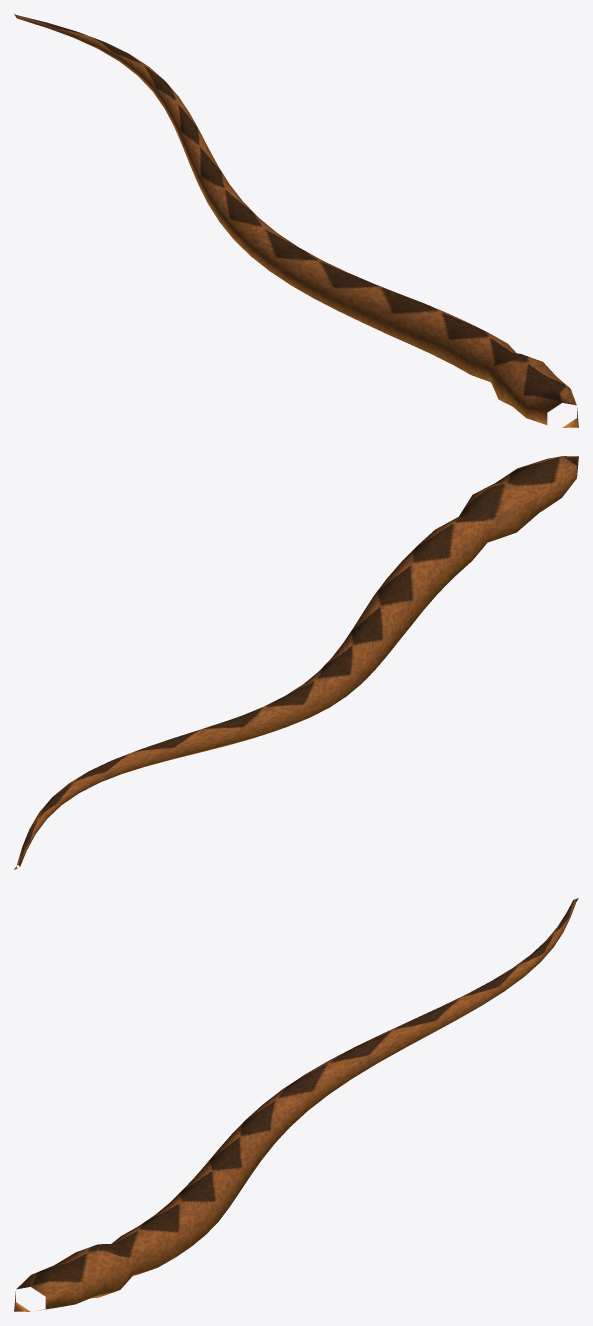
Rendered from projectile_serpent.glb.
3 views of the same model, one above another, from view 1: azimuth 30°, elevation 25°; view 2: azimuth 150°, elevation 25°; view 3: azimuth 330°, elevation 25° (orthographic).
Parts seen in each view (by area): view 1: Serpent; view 2: Serpent; view 3: Serpent.
Part boxes in pixels (x1,y1,x2,y2): Serpent: (14,14,578,427); Serpent: (14,456,578,869); Serpent: (14,898,578,1311).
Bounding box in the file's own units: 0.1645 × 0.1284 × 2.02.
Materials: 1 (1 with a texture image).
